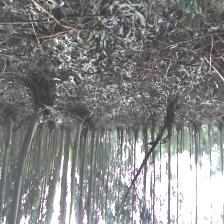trunk: (10, 114, 38, 212), (132, 122, 166, 184), (0, 118, 14, 207), (69, 122, 82, 215), (167, 130, 171, 216)
